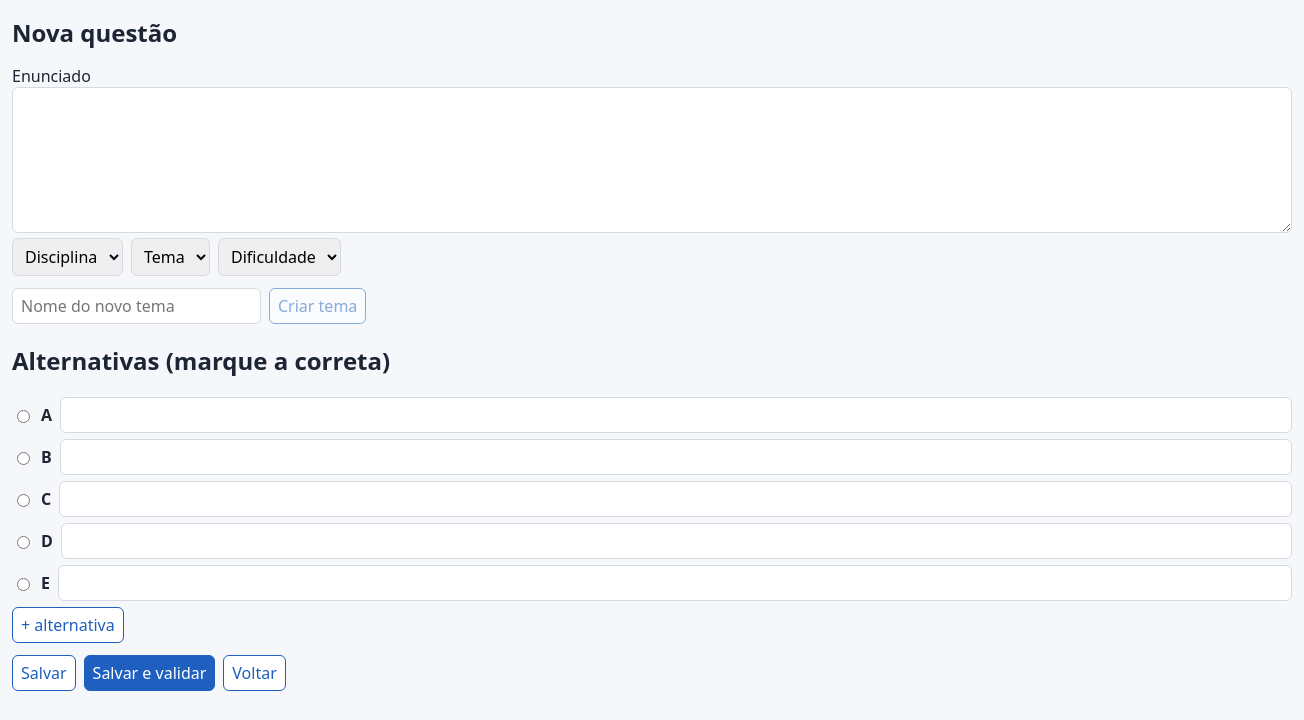
Test: Telas React › cadastro envia formulário e navega para questão criada
Type "Nova" into the text box labelled "Enunciado" at (652, 160), box [12, 87, 1292, 233]
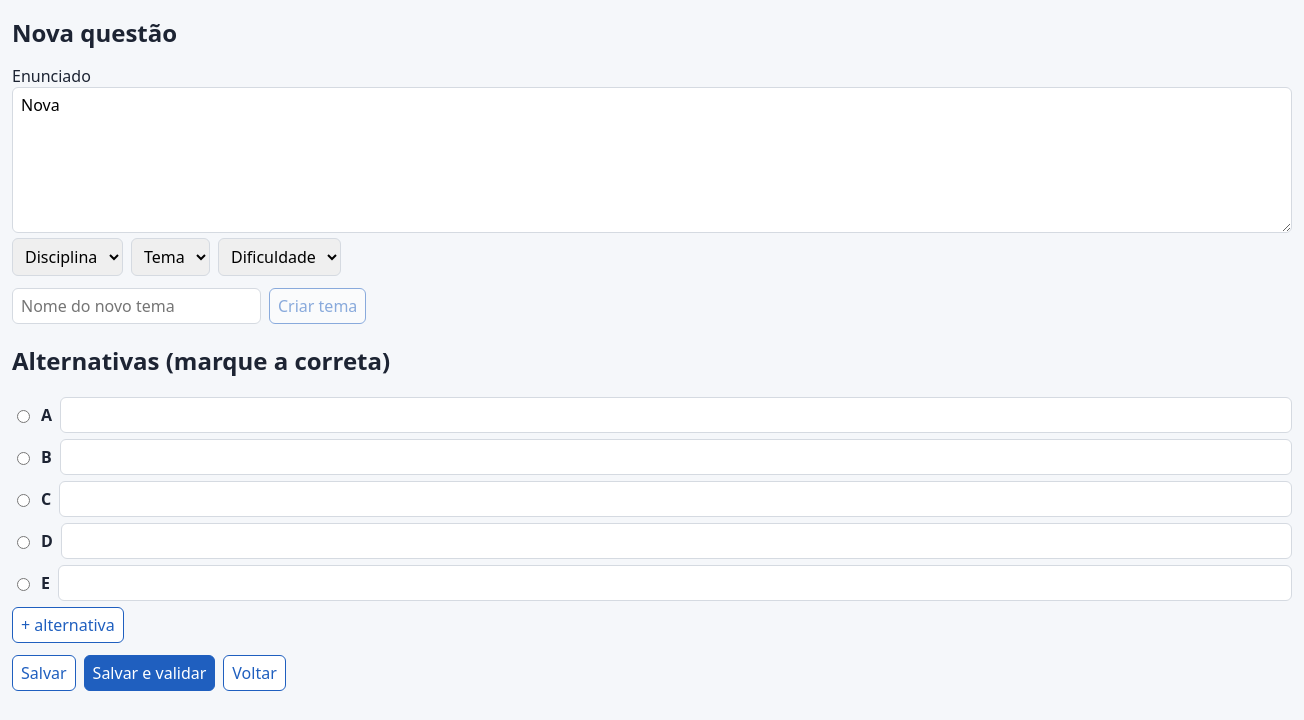
Click the button "Salvar" at (44, 673), box [12, 655, 76, 691]
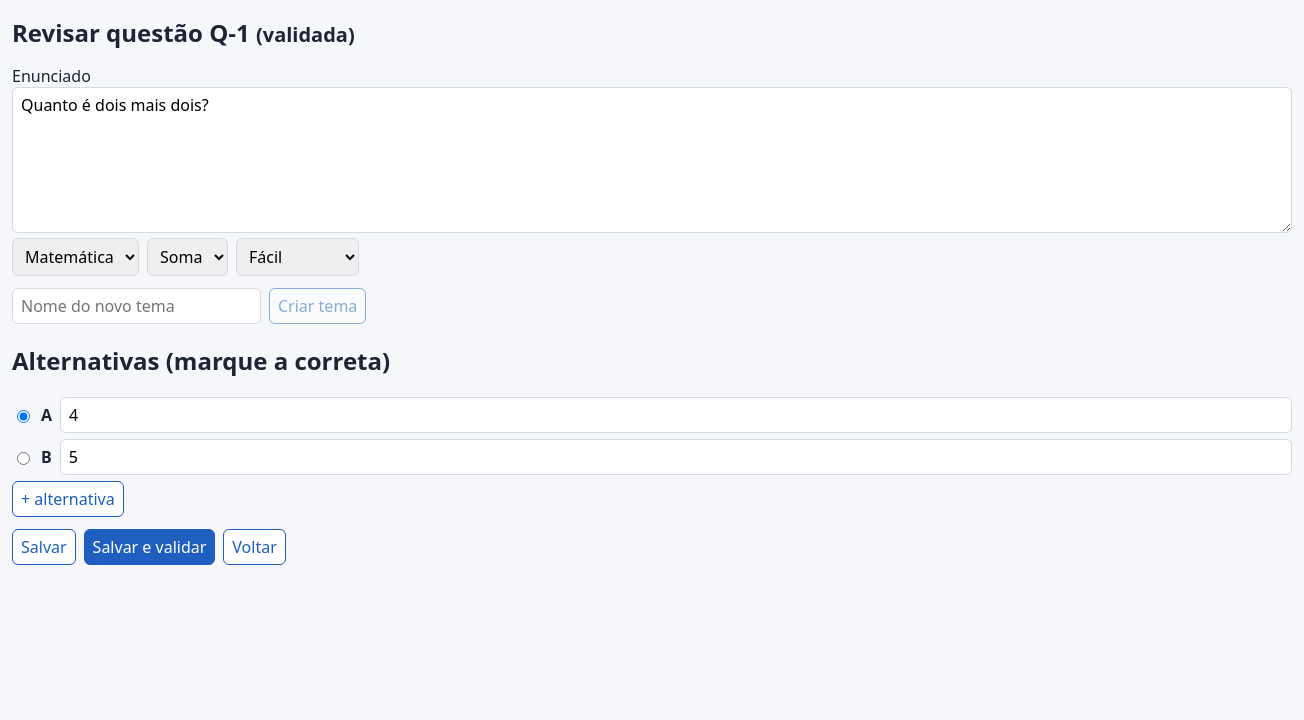
Result: the heading "Revisar questão Q-1 (validada)" is shown at [12, 16, 355, 49]
